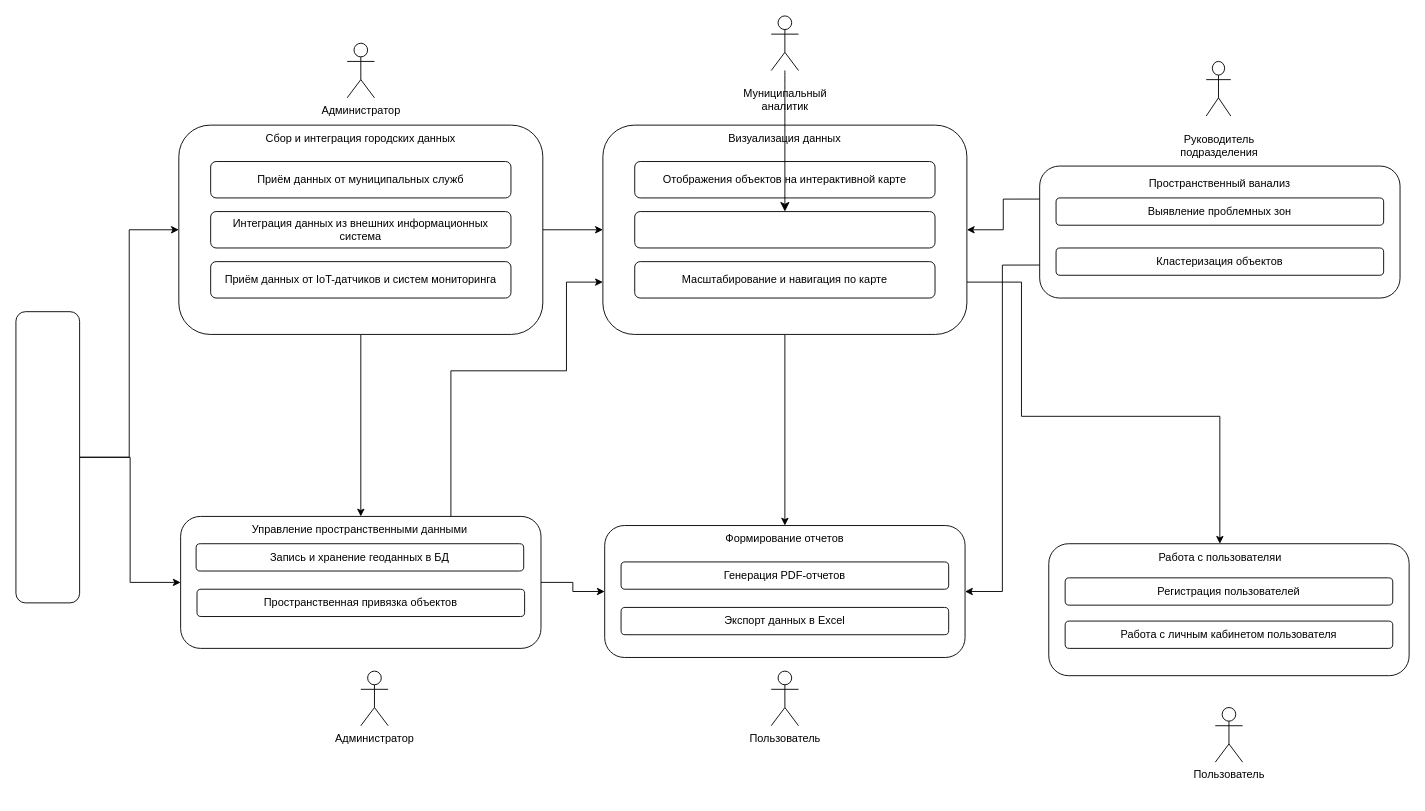
Some shapes in this 1425 by 811 pixel diagram are drawn without their labels. Each missing label, with the centre of its shape:
"Внешние системы" goes at point 47,457.
"Фильтрация данных по времени, территории и категории" goes at point 784,229.
